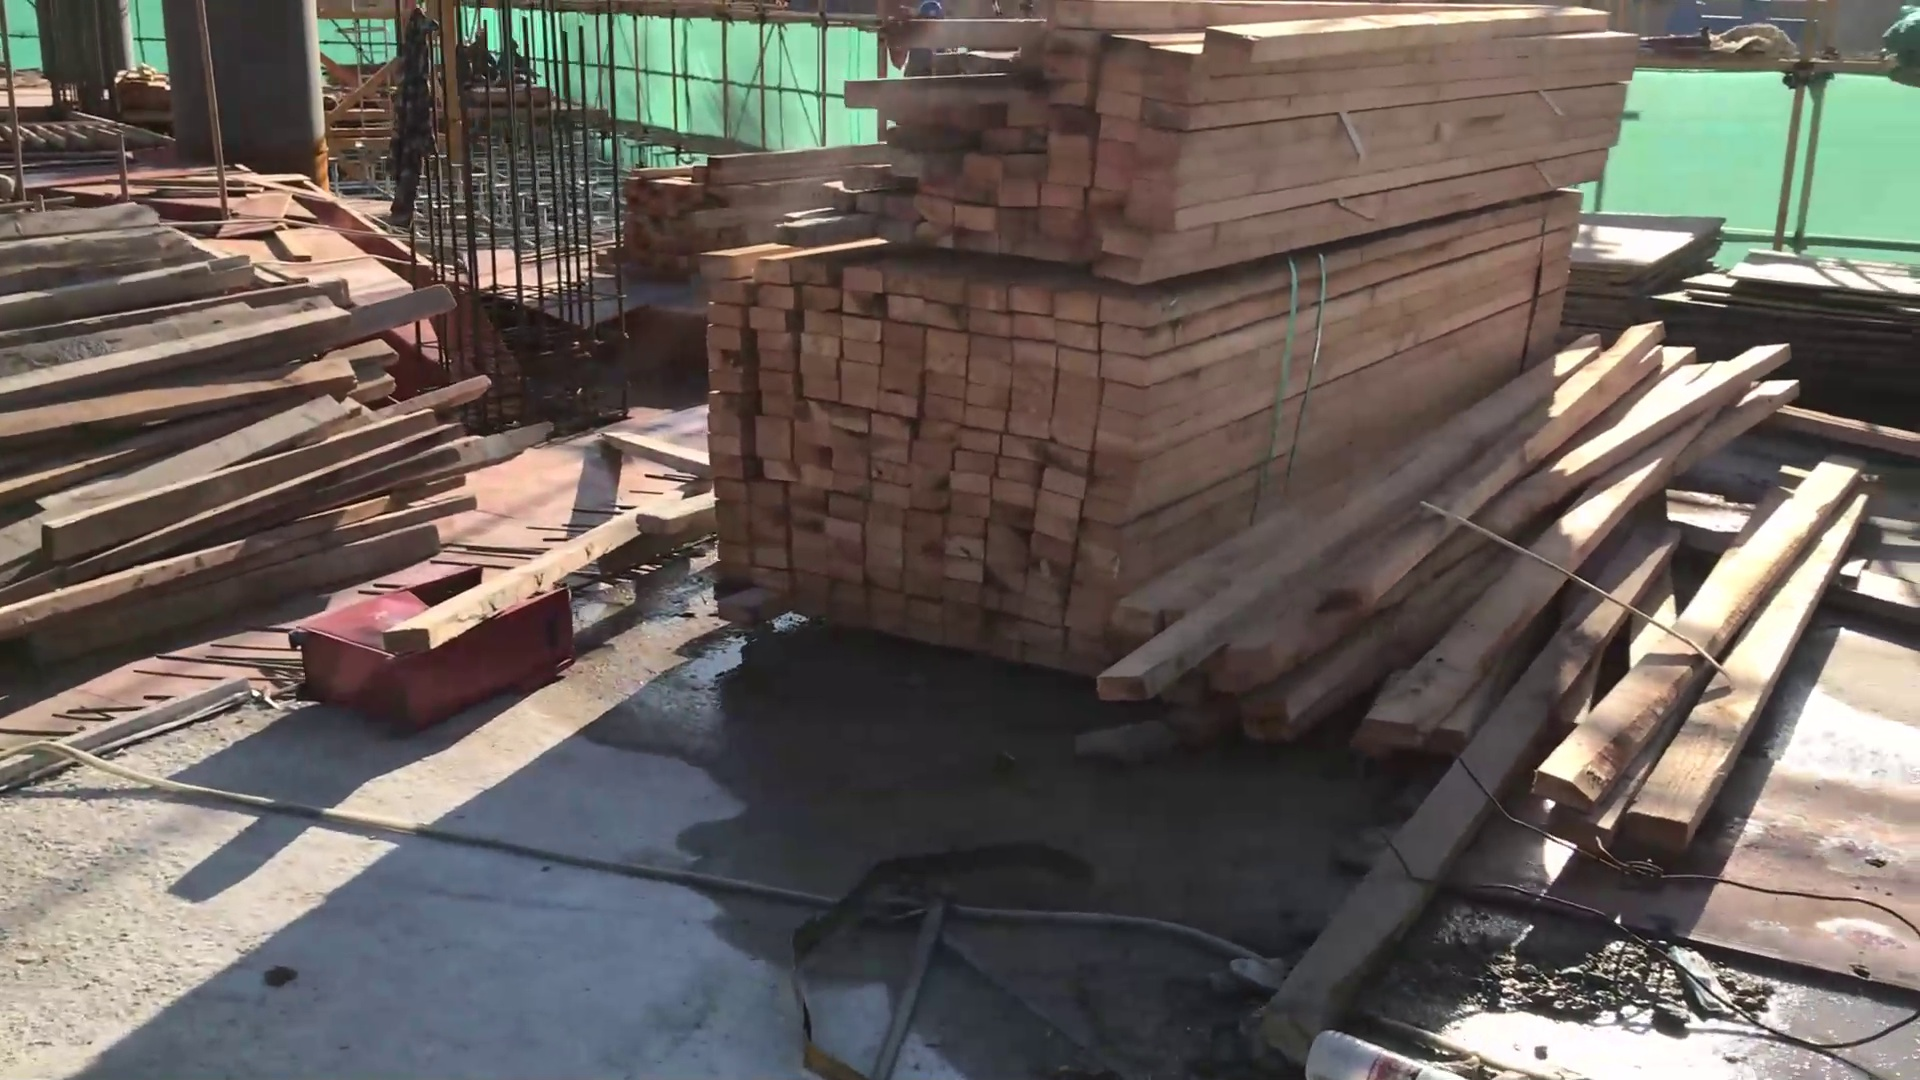wood: (667, 224, 1600, 717), (698, 1, 1648, 301)
